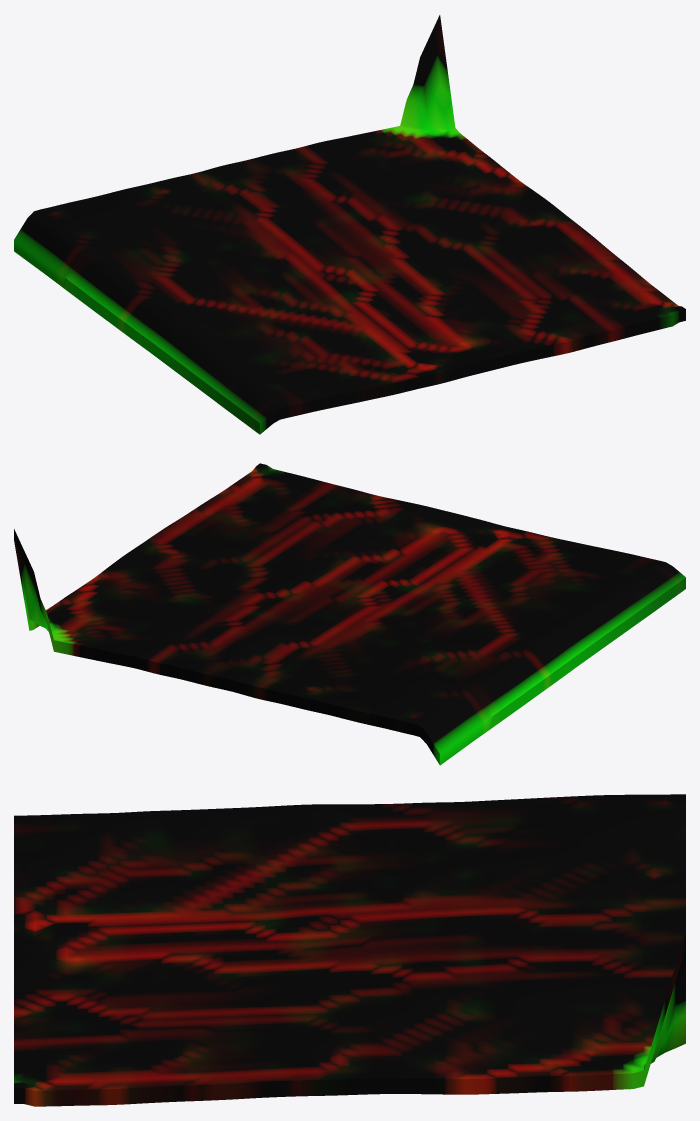
Rendered from Terrain_01_03.fbx.
3 views of the same model, one above another, from view 1: azimuth 30°, elevation 25°; view 2: azimuth 150°, elevation 25°; view 3: azimuth 270°, elevation 25° (orthographic). The views are drawn at different scales.
Visible parts, largest first — view 1: Terrain_01_03_LOD0; view 2: Terrain_01_03_LOD0; view 3: Terrain_01_03_LOD0.
Boxes of the visible parts, <box> form: Terrain_01_03_LOD0: <box>14,15,685,434</box>; Terrain_01_03_LOD0: <box>14,463,685,765</box>; Terrain_01_03_LOD0: <box>14,794,685,1106</box>.
Size of what is drawn, in the model's own units: 384 by 118 by 384.
